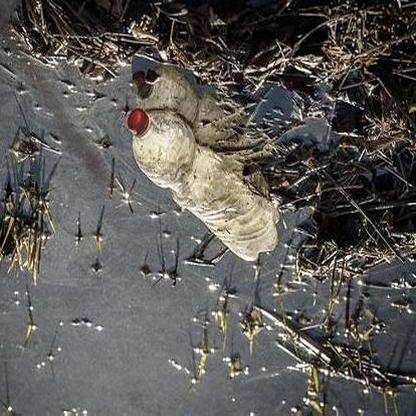plastic bottle: (125, 108, 280, 263)
